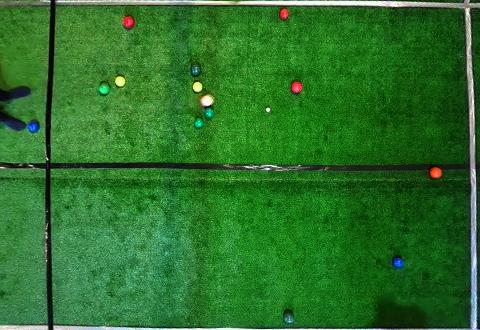blue: (28, 120, 40, 133), (393, 257, 404, 268)
green: (283, 311, 295, 324), (99, 81, 110, 94), (191, 63, 202, 76), (194, 117, 204, 129), (205, 108, 215, 119)
red: (200, 94, 214, 107), (430, 167, 443, 179), (123, 15, 135, 28), (291, 81, 303, 93), (279, 8, 289, 20)
vline: (1, 0, 56, 329), (461, 0, 479, 330)
white: (266, 107, 270, 112)
yellow: (115, 76, 125, 87), (193, 82, 202, 92)
